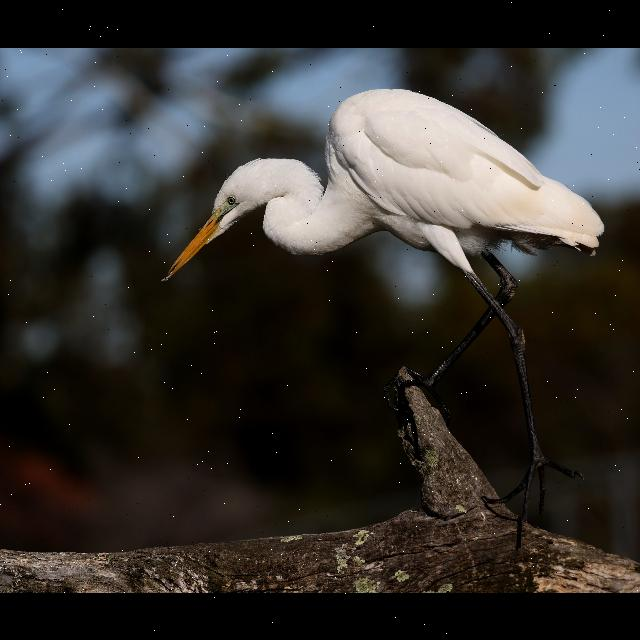egret: (163, 87, 605, 480)
